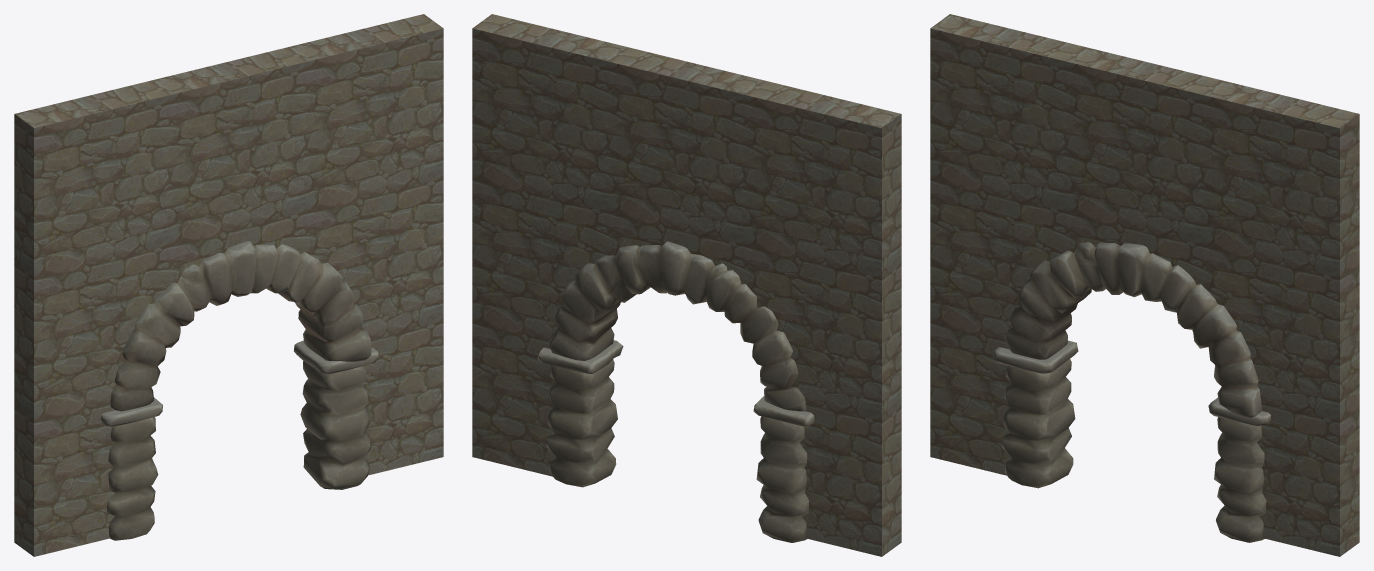
The model's file is SM_FW01_Ruins_Int_Doorway_A_6x6_02.fbx.
3 renders of one model, left to right at view 1: azimuth 30°, elevation 25°; view 2: azimuth 150°, elevation 25°; view 3: azimuth 330°, elevation 25°, orthographic.
Visible parts, largest first — view 1: SM_FW01_Ruins_Int_Doorway_A_6x6_02, SM_FW01_Ruins_Int_Doorway_A_6x6_02_LOD0; view 2: SM_FW01_Ruins_Int_Doorway_A_6x6_02, SM_FW01_Ruins_Int_Doorway_A_6x6_02_LOD0; view 3: SM_FW01_Ruins_Int_Doorway_A_6x6_02, SM_FW01_Ruins_Int_Doorway_A_6x6_02_LOD0.
Part boxes in pixels (<box>): SM_FW01_Ruins_Int_Doorway_A_6x6_02: <box>14,14,443,556</box>; SM_FW01_Ruins_Int_Doorway_A_6x6_02_LOD0: <box>101,241,378,540</box>; SM_FW01_Ruins_Int_Doorway_A_6x6_02: <box>472,14,901,556</box>; SM_FW01_Ruins_Int_Doorway_A_6x6_02_LOD0: <box>537,241,814,542</box>; SM_FW01_Ruins_Int_Doorway_A_6x6_02: <box>930,14,1359,556</box>; SM_FW01_Ruins_Int_Doorway_A_6x6_02_LOD0: <box>992,242,1271,542</box>.
Size of what is drawn, in the model's own units: 6 by 6.08 by 0.9026.
